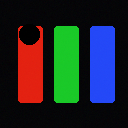2 circle: (19, 24, 39, 44)
